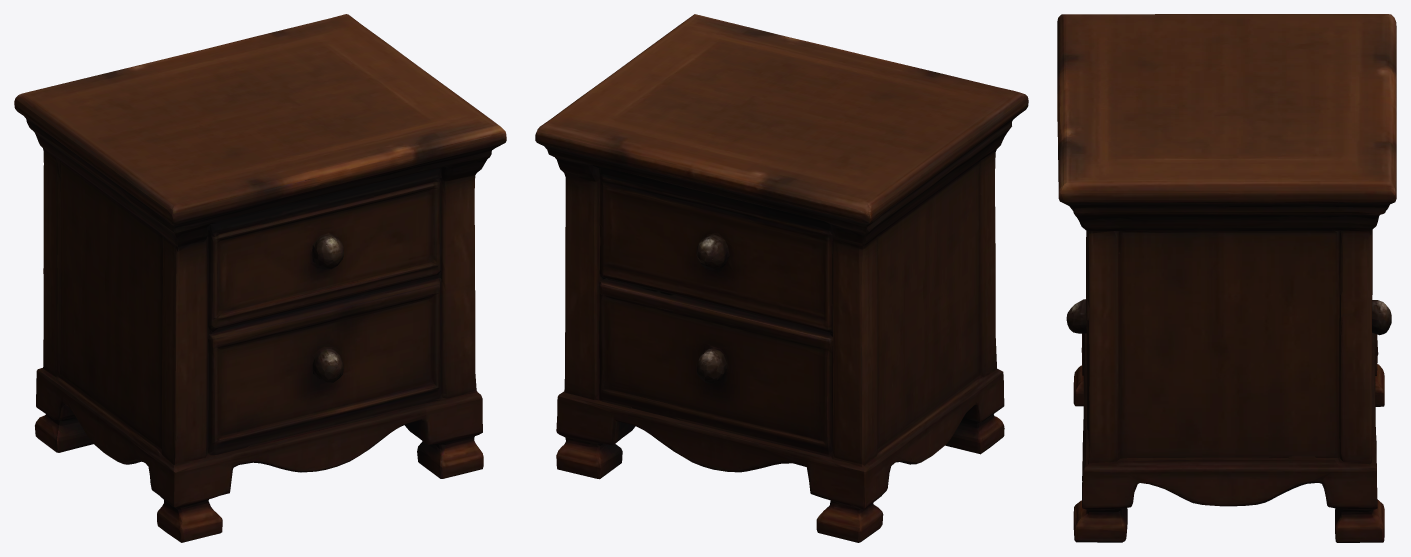
Rendered from small_drawers.glb.
3 views of the same model, side by side, from view 1: azimuth 30°, elevation 25°; view 2: azimuth 150°, elevation 25°; view 3: azimuth 270°, elevation 25° (orthographic). The views are drawn at different scales.
Visible parts, largest first — view 1: geometry_0; view 2: geometry_0; view 3: geometry_0.
Part boxes in pixels (x1,y1,x2,y2): geometry_0: (14, 14, 506, 542); geometry_0: (535, 14, 1028, 542); geometry_0: (1057, 14, 1396, 542).
Size of the model in its own units: 0.5002 by 0.4914 by 0.4118.
Materials: 1 (1 with a texture image).
